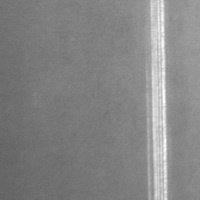scratches: (144, 1, 172, 200)
